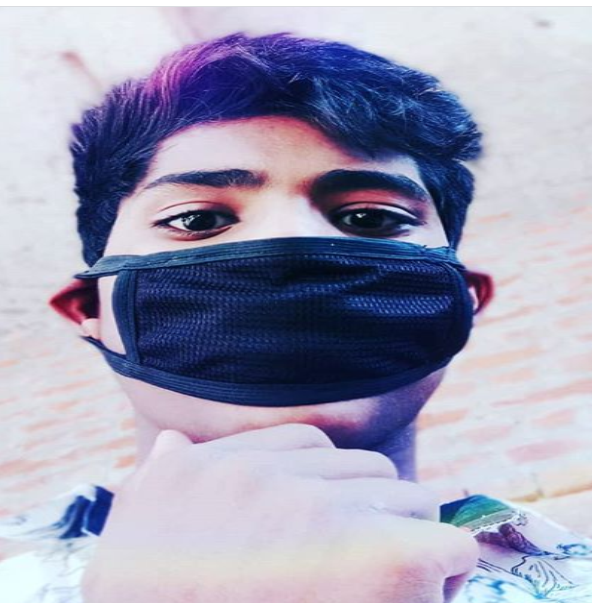mask_weared_incorrect: (54, 34, 497, 457)
